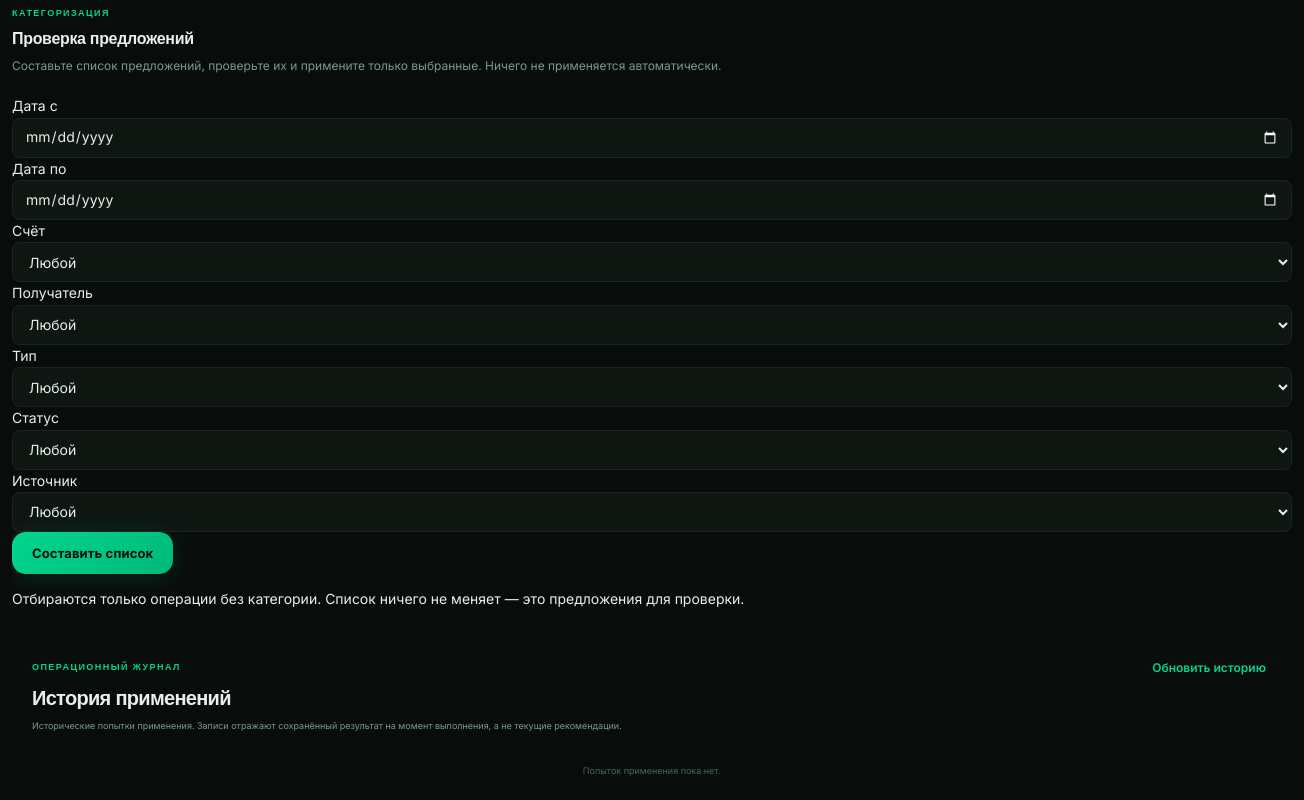
it: an expired preview offers creating a new one
Submit the form
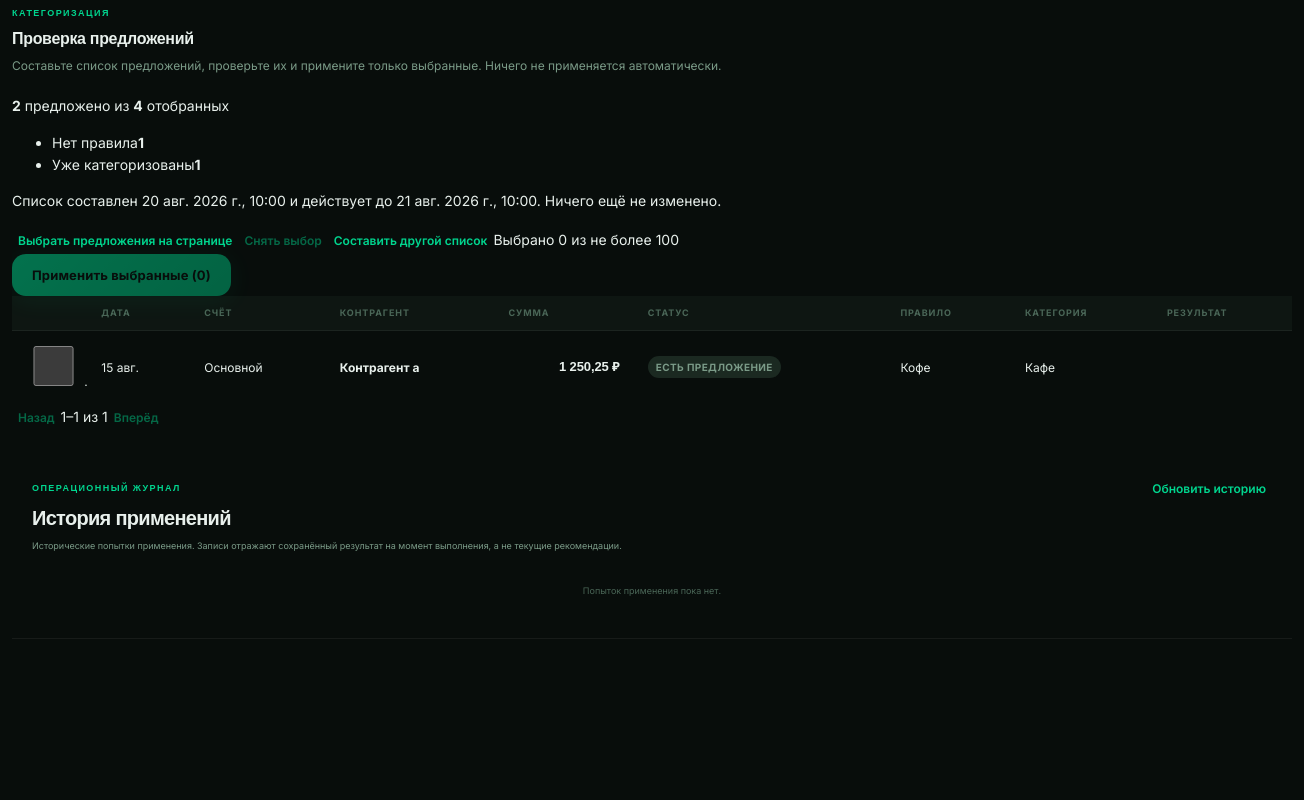
Click the checkbox named "Выбрать операцию Контрагент a": (54, 366) 30,346 -> 77,386
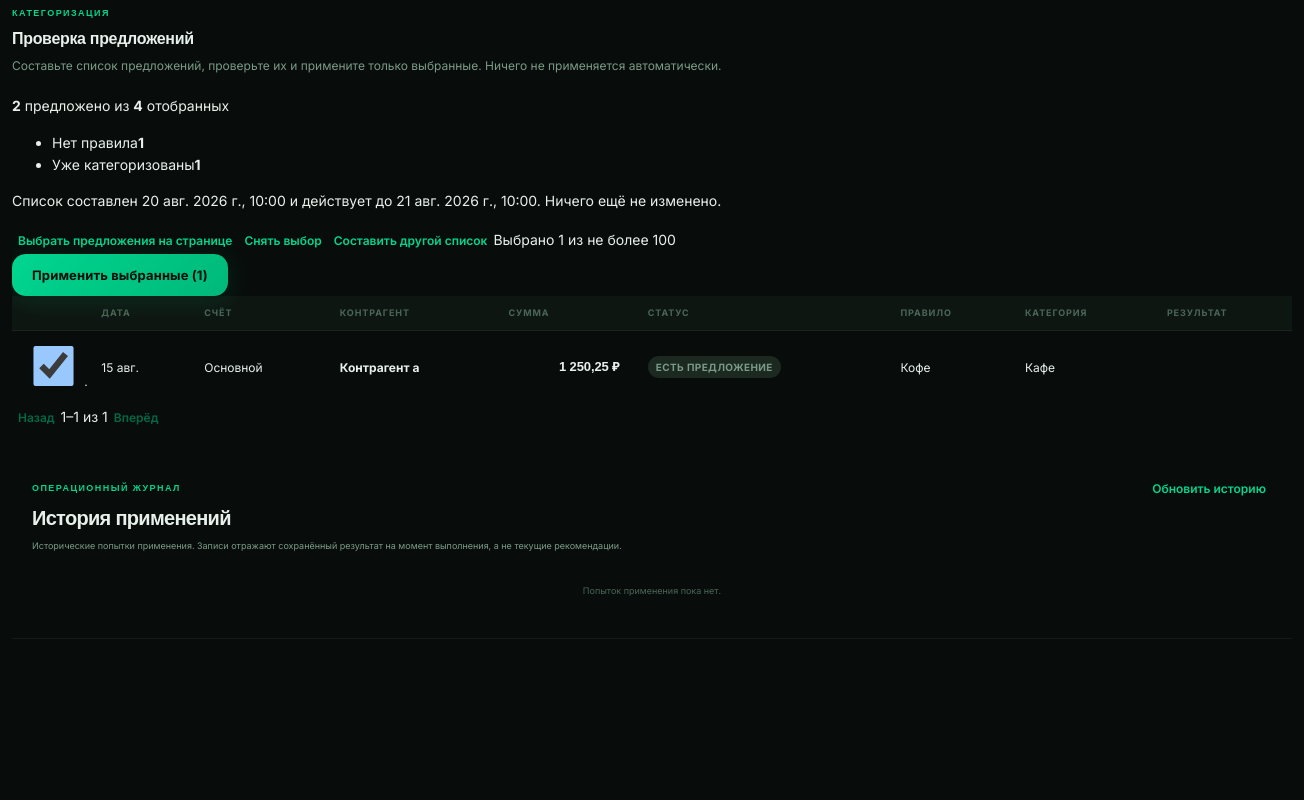
Click the button "Применить выбранные (1)": (120, 275) 12,254 -> 228,296
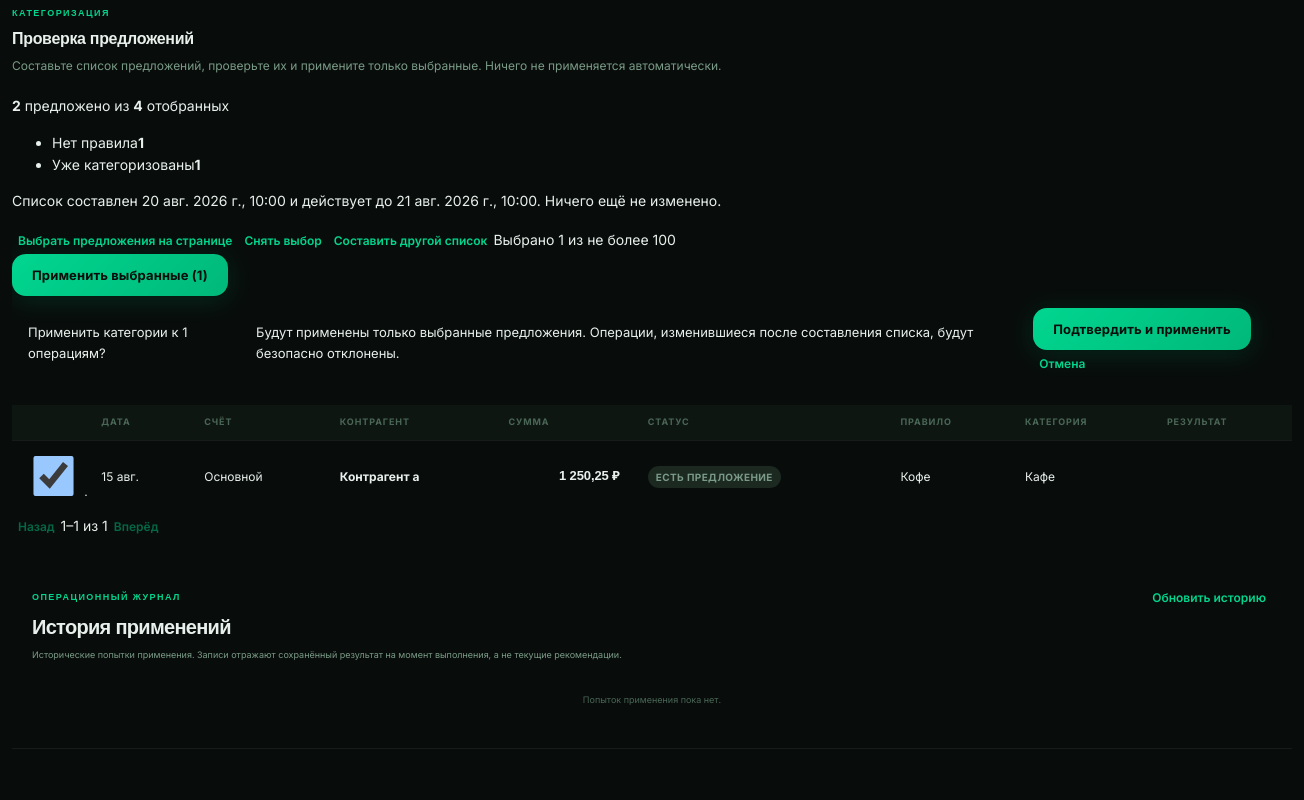
Click the button "Подтвердить и применить": (1142, 329) 1033,308 -> 1251,350
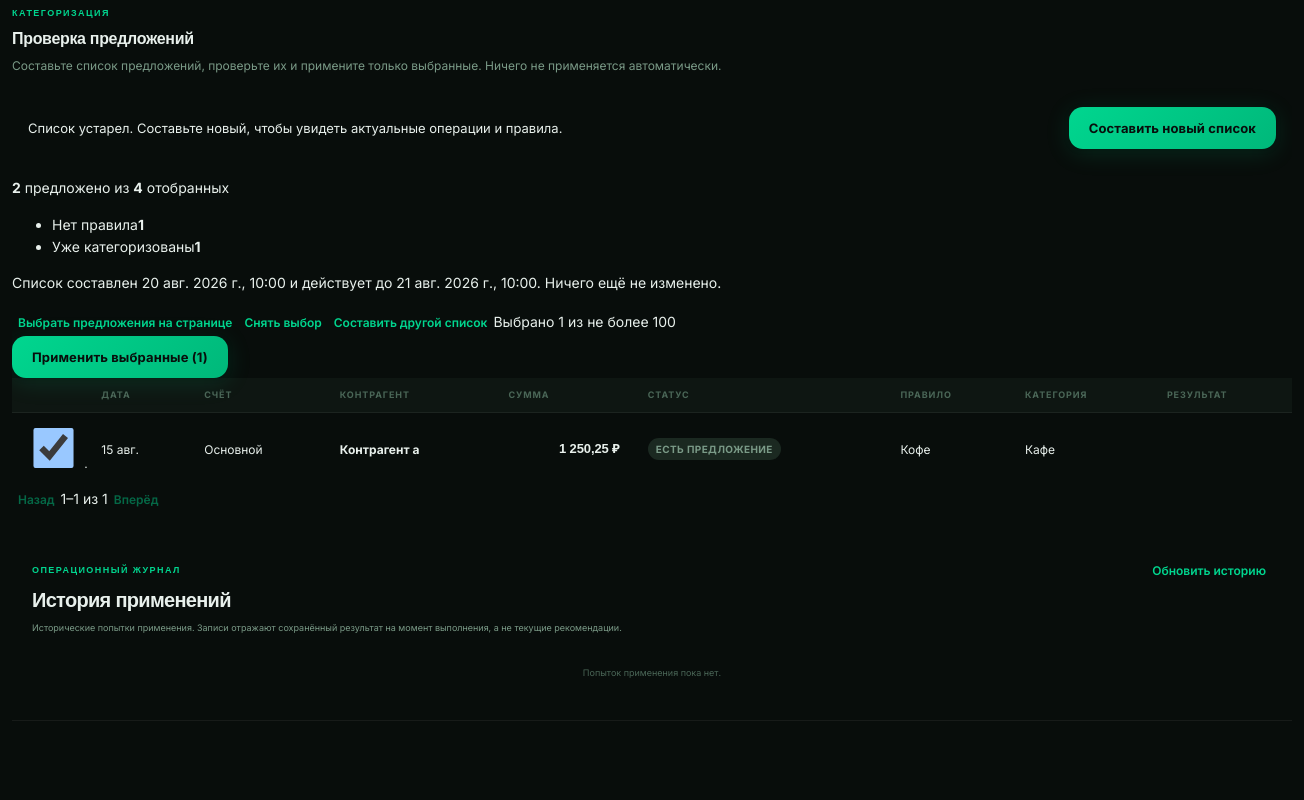
Expected: the button "Составить новый список" is shown, 1069,107 -> 1276,149
Expected: the text "Список устарел" is shown, 28,120 -> 562,136
